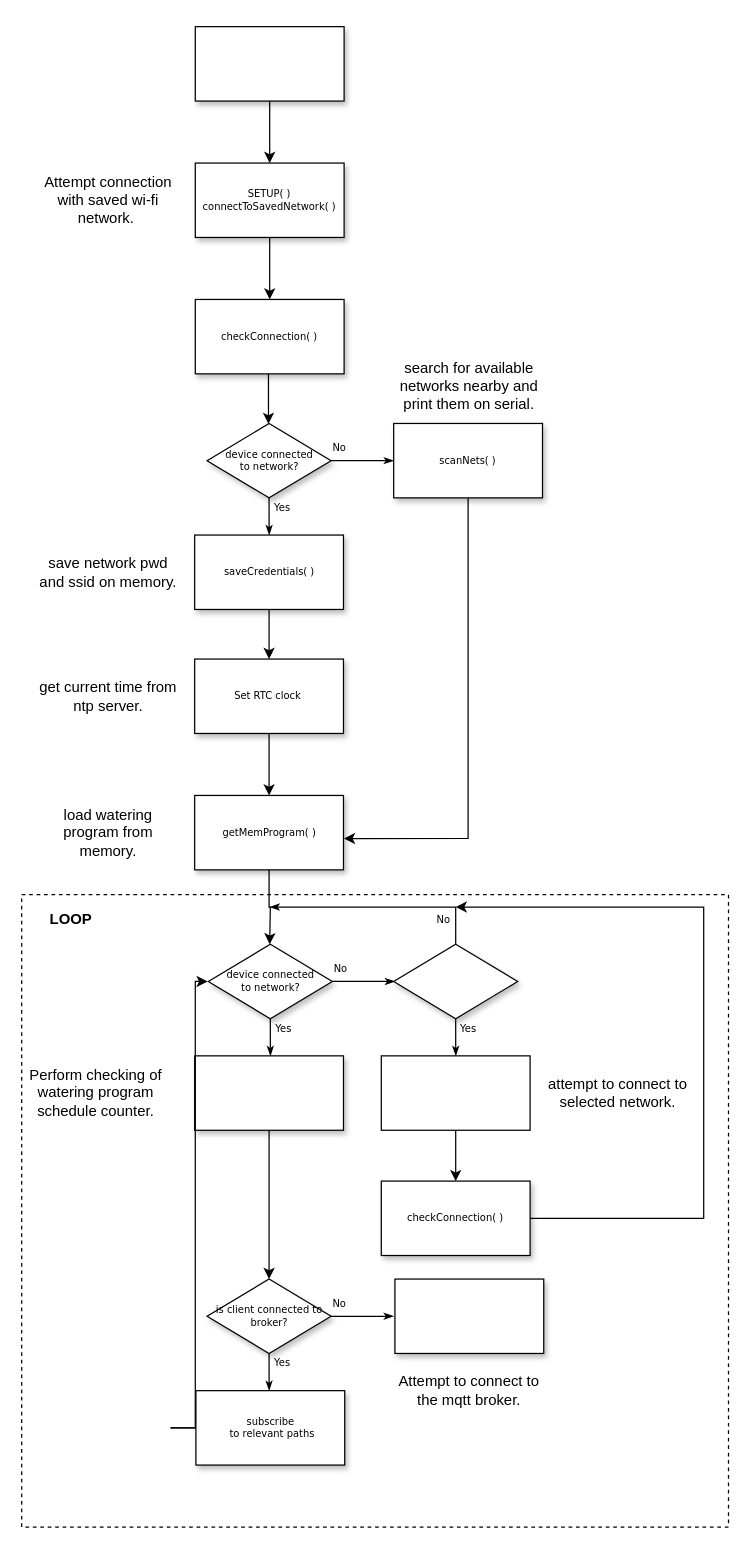
The diagram is 750 pixels wide and 1549 high, and some of its shapes have lost their labels. Each missing label, with the centre of its shape:
"countTime( )" belongs at (x=269, y=1094).
"getInput( )" belongs at (x=455, y=1092).
"is there available input from serial?" belongs at (x=456, y=982).
"reconnectToBroker( )" belongs at (x=470, y=1317).
"SETUP( ) Initialization of values, pins and interruptions." belongs at (x=270, y=65).
